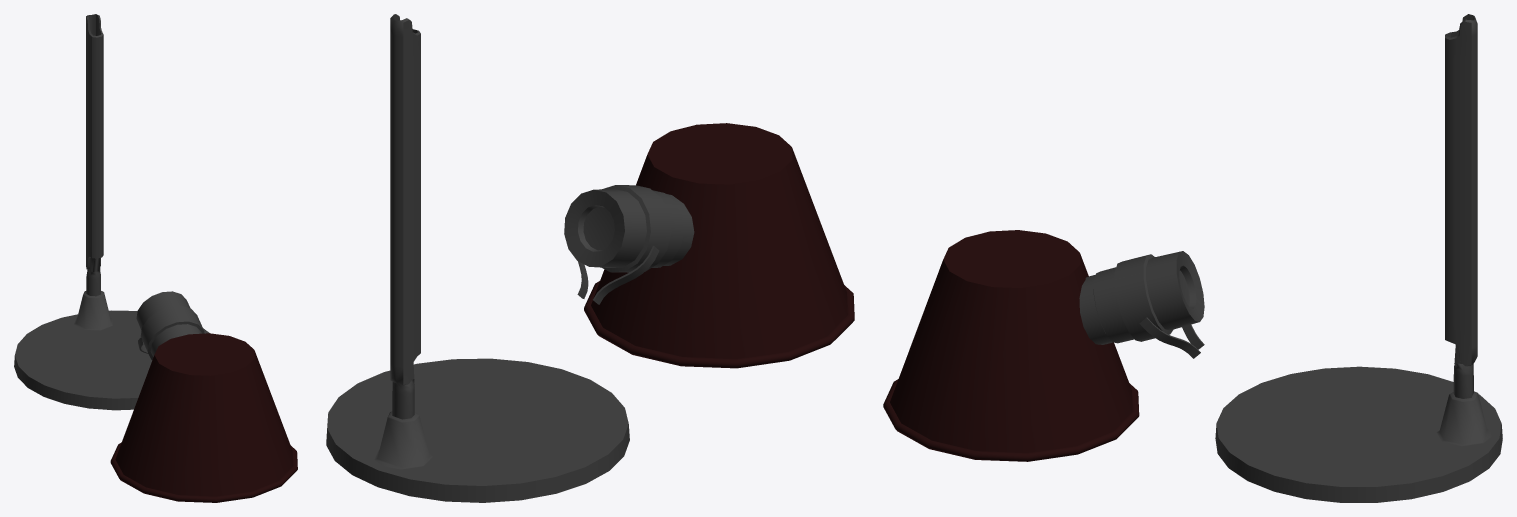
The model's file is lamp.FBX.
The picture shows the model from 3 angles, left to right: view 1: azimuth 30°, elevation 25°; view 2: azimuth 150°, elevation 25°; view 3: azimuth 270°, elevation 25°; orthographic projection. The views are drawn at different scales.
Parts seen in each view (by area): view 1: Cylinder05, lamp; view 2: Cylinder05, lamp; view 3: Cylinder05, lamp.
Part boxes in pixels (x1,y1,x2,y2): Cylinder05: (110, 291, 297, 502); lamp: (14, 14, 209, 410); Cylinder05: (564, 123, 854, 368); lamp: (326, 14, 629, 502); Cylinder05: (883, 230, 1204, 461); lamp: (1215, 14, 1502, 502).
Bounding box in the file's own units: 1.48 × 2.1 × 2.72.
